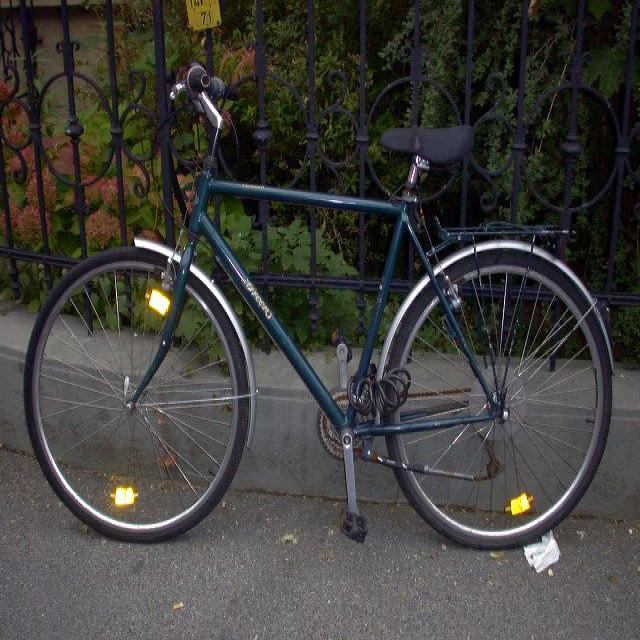bicycle: (22, 60, 614, 549)
